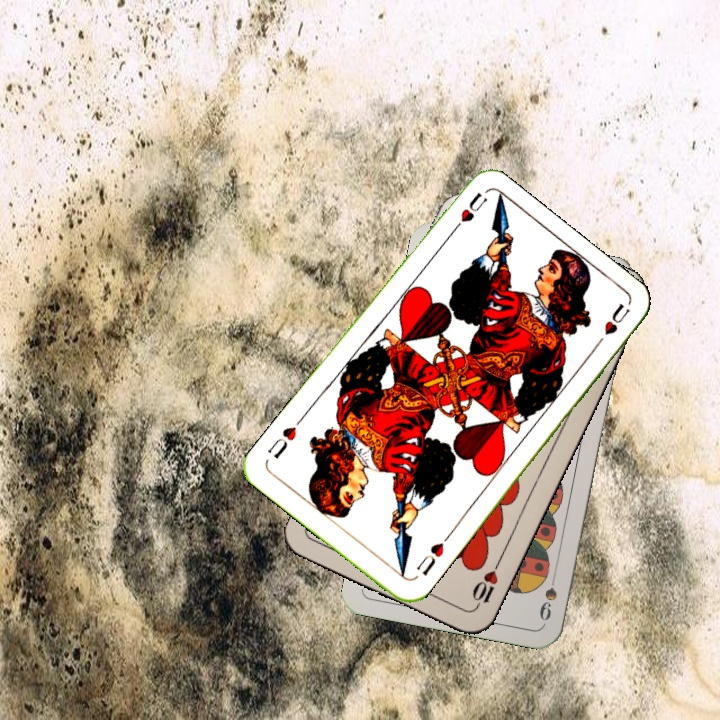H10: (468, 556, 504, 611)
HU: (445, 188, 490, 239), (412, 532, 452, 578)
S9: (535, 579, 560, 624)
